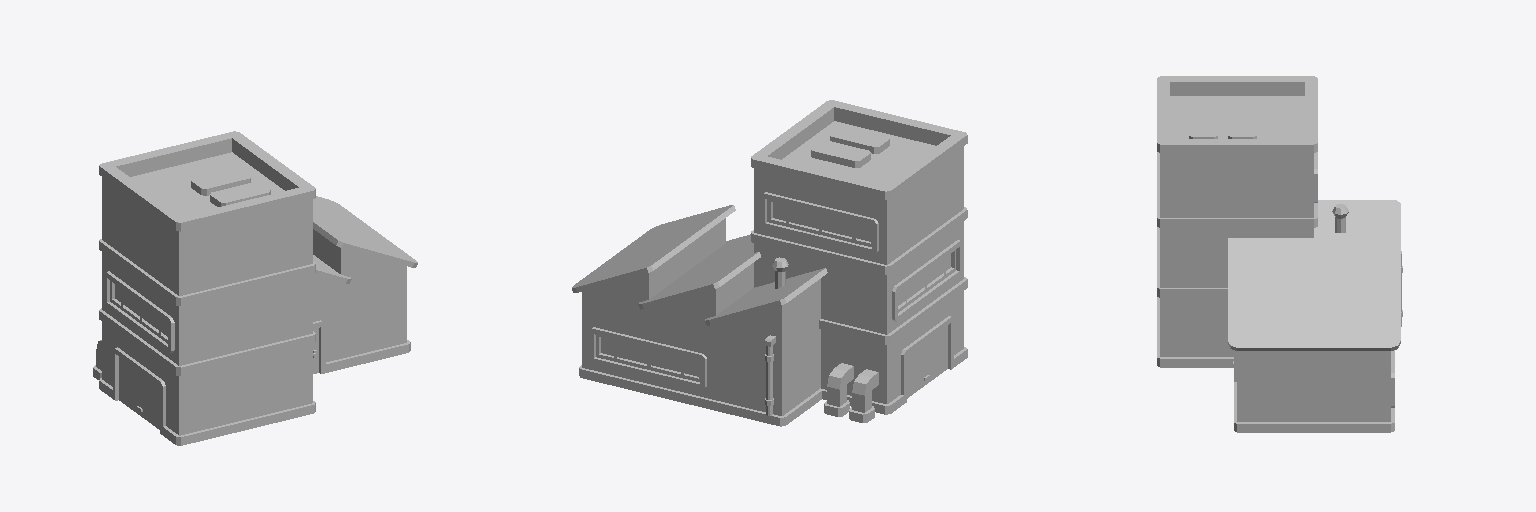
File: industrial_building-g.obj
3 views of the same model, side by side, from view 1: azimuth 30°, elevation 25°; view 2: azimuth 150°, elevation 25°; view 3: azimuth 270°, elevation 25° (orthographic).
Parts seen in each view (by area): view 1: building-g; view 2: building-g; view 3: building-g.
Part boxes in pixels (bbox=[...]): building-g: bbox=[93, 131, 417, 445]; building-g: bbox=[572, 100, 967, 426]; building-g: bbox=[1157, 76, 1402, 432].
Bounding box in the file's own units: 1.68 × 1.28 × 1.28.